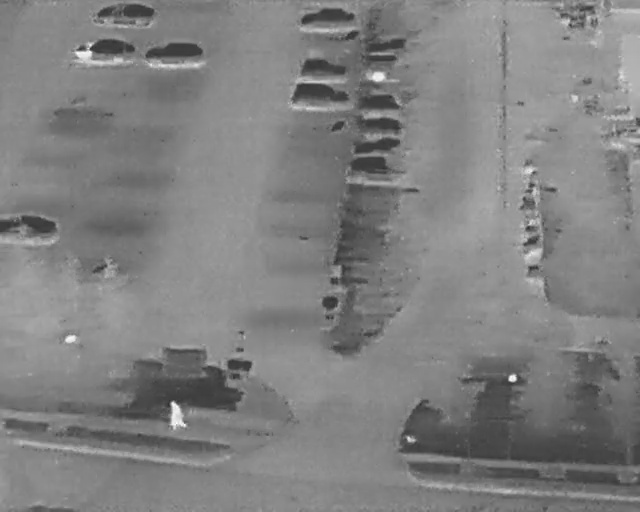Bicycle: (519, 230, 543, 252), (515, 192, 539, 214), (518, 218, 539, 236), (565, 16, 586, 32), (559, 10, 576, 22), (526, 262, 541, 275)
Car: (0, 213, 61, 247), (91, 2, 157, 29), (72, 37, 137, 64), (145, 41, 206, 68), (298, 5, 357, 32), (289, 81, 348, 107), (297, 56, 348, 80), (352, 137, 404, 156), (346, 155, 389, 175), (358, 115, 403, 134), (358, 93, 401, 112), (369, 38, 408, 51)
Person: (169, 397, 188, 433)
